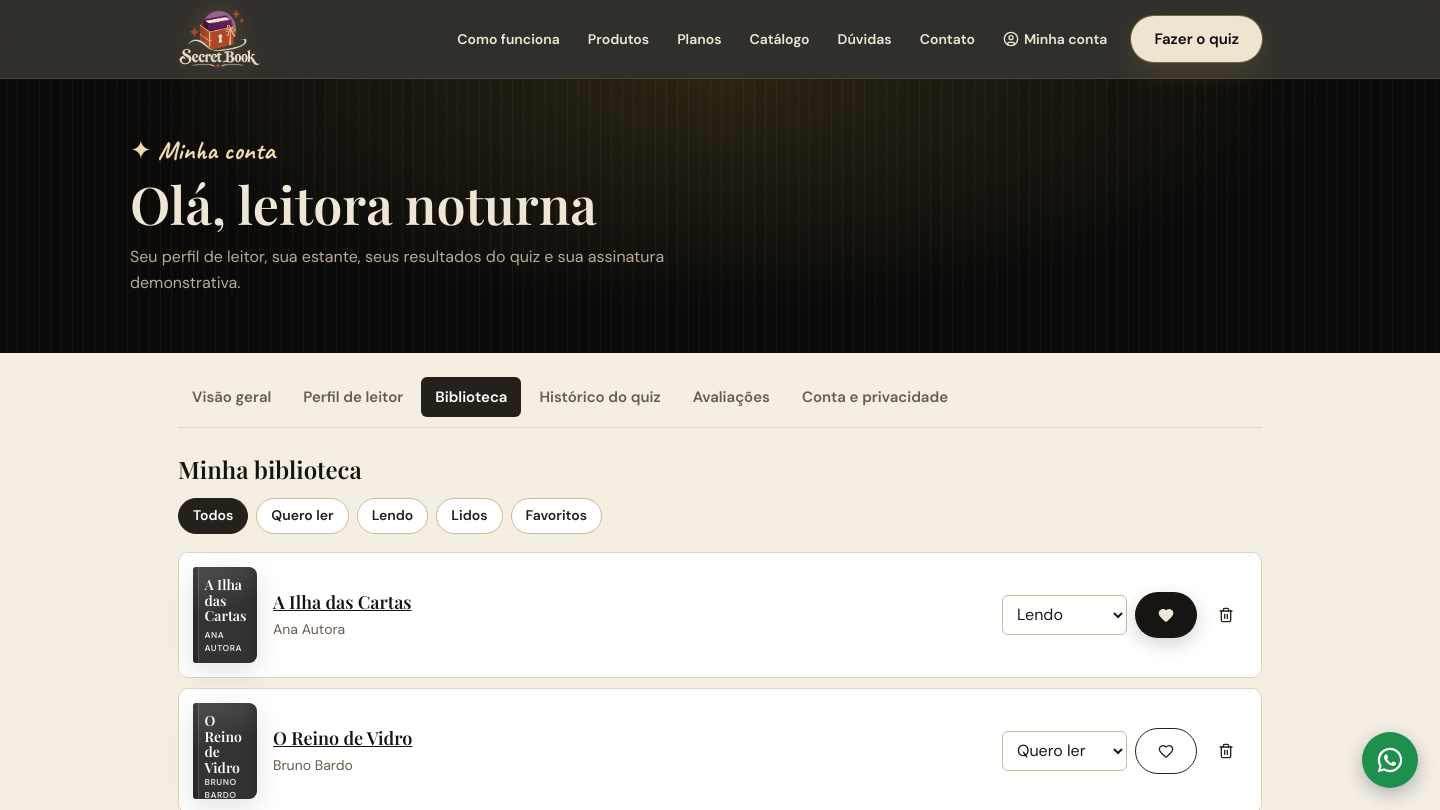
Minha conta: biblioteca › remove um livro da biblioteca
The image size is (1440, 810).
Click the button named "Remover A Ilha das Cartas da biblioteca": (1226, 615) x1=1205 y1=595 x2=1247 y2=635
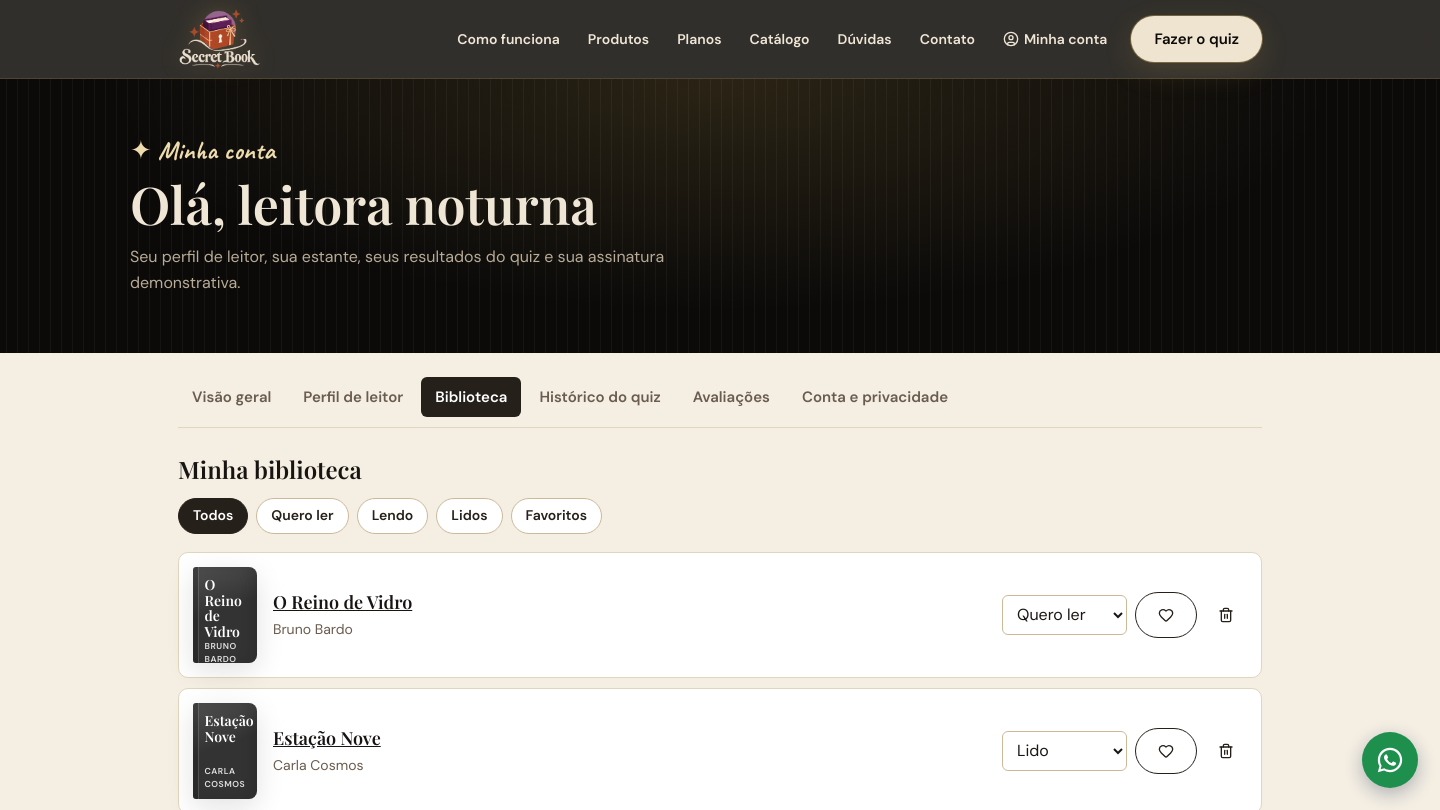
Check: the link "O Reino de Vidro" is shown, box x1=273 y1=590 x2=412 y2=614
Check: the text "A Ilha das Cartas" is gone
